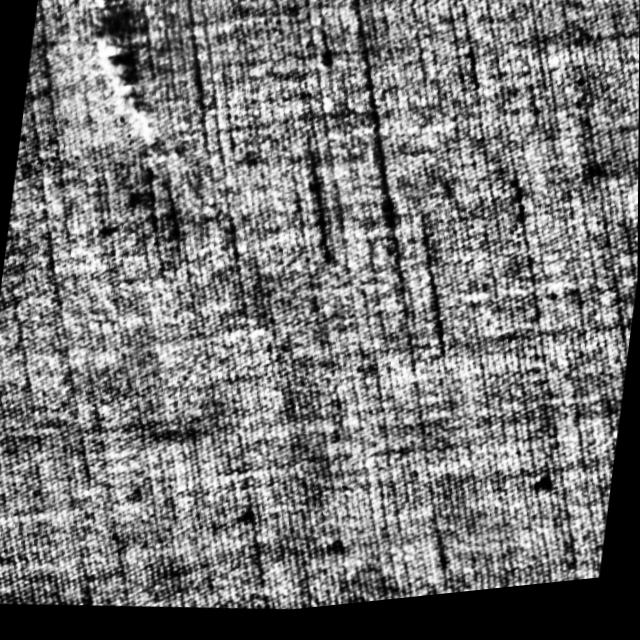Stitch: (53, 0, 196, 177)
